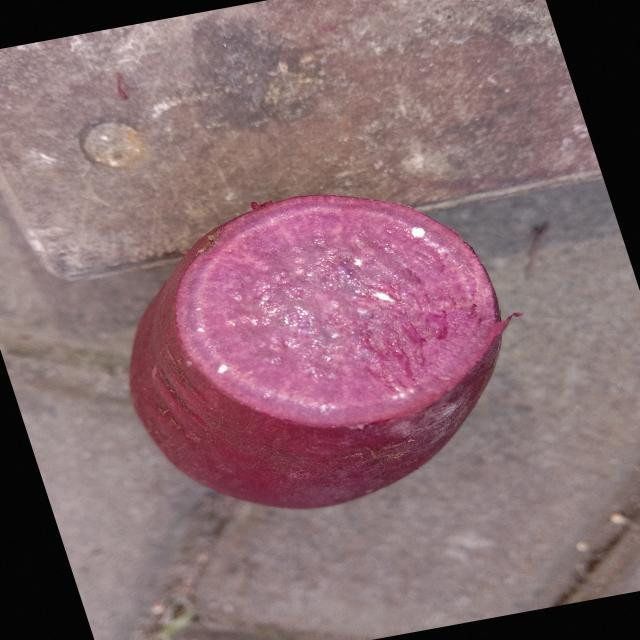Healthy Sweet Potato: (175, 195, 507, 426)
